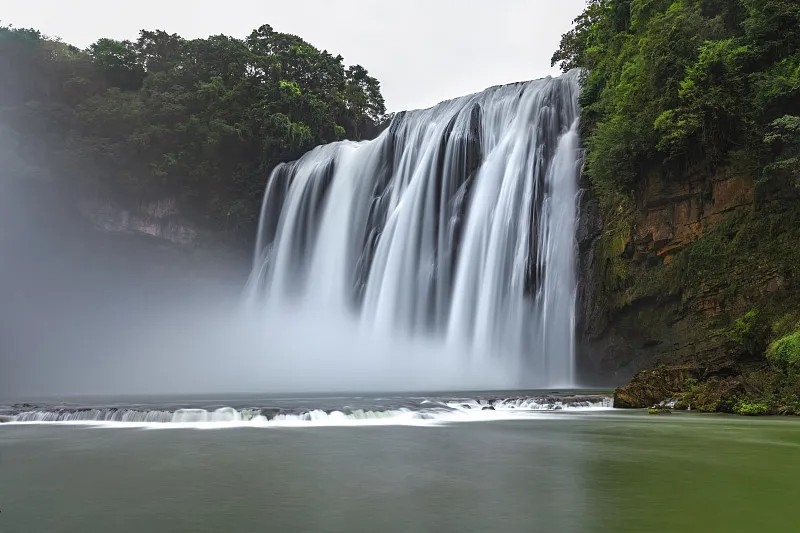Huangguoshu: (242, 67, 577, 389)
